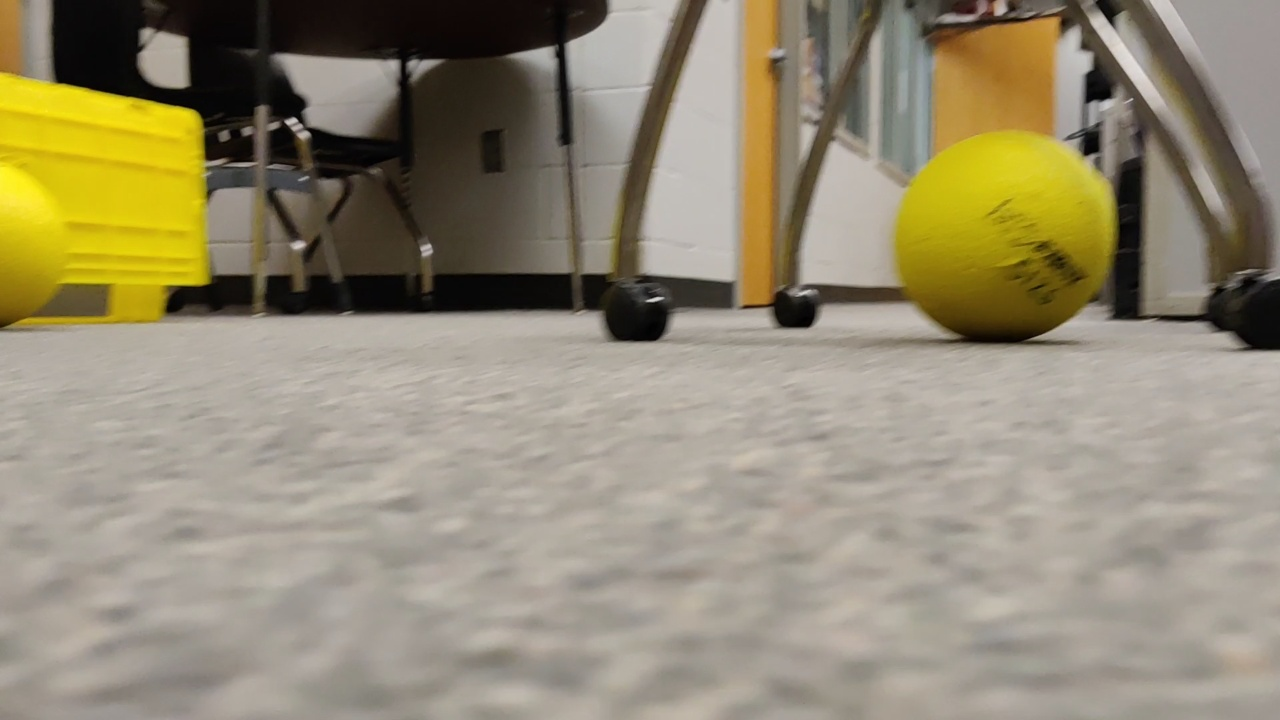Ball: (894, 128, 1120, 345), (1, 168, 65, 326)
